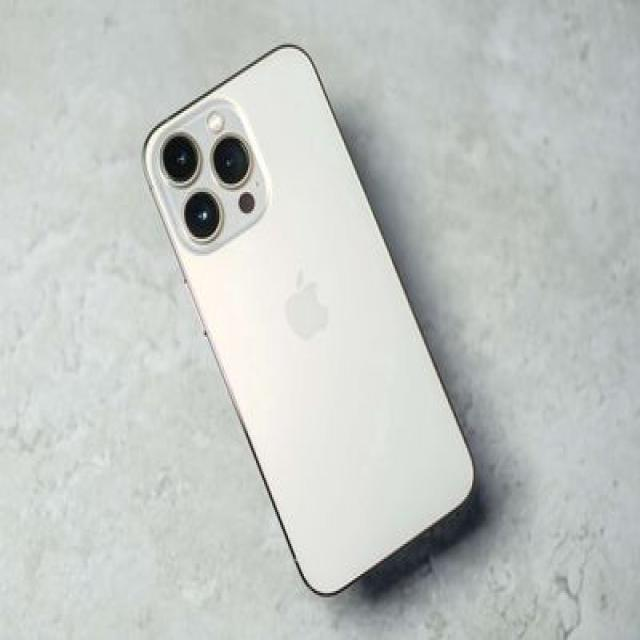gen_12_13: (141, 41, 473, 596)
